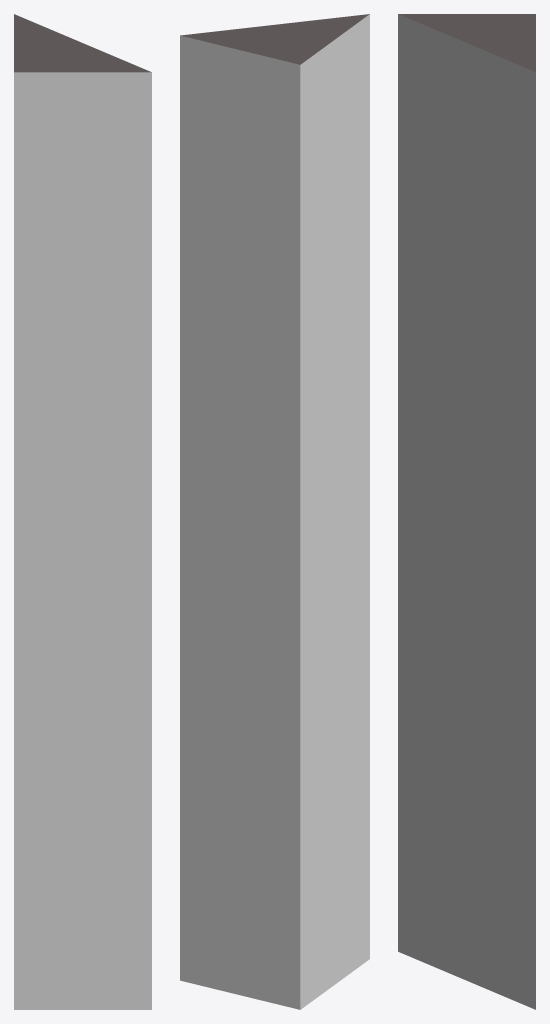
3 views of the same model, side by side, from view 1: azimuth 90°, elevation 25°; view 2: azimuth 150°, elevation 25°; view 3: azimuth 270°, elevation 25° (orthographic).
Bounding box in the file's own units: 32 × 240 × 32.
1 material, 1 textured.
